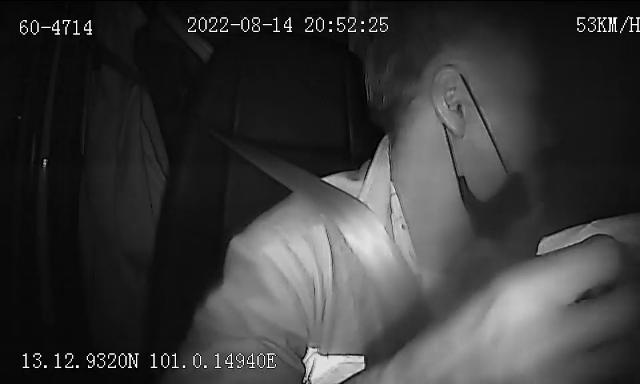Seatbelt: (236, 147, 422, 327)
